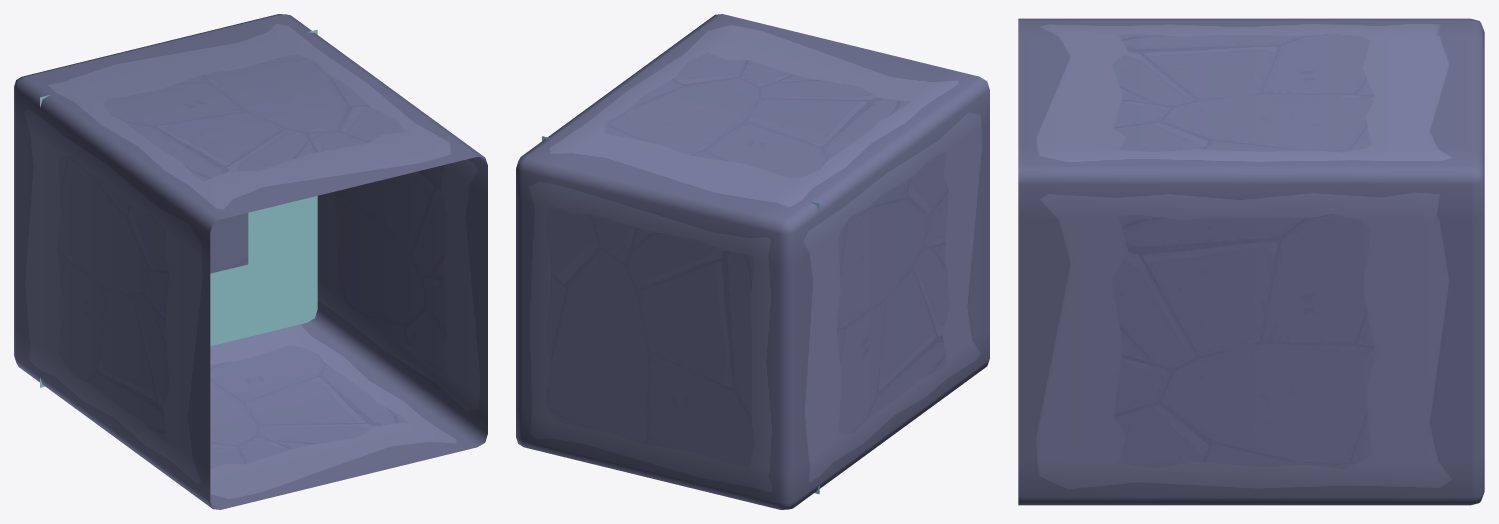
The model's file is SinkBox_4x4.fbx.
3 views of the same model, side by side, from view 1: azimuth 30°, elevation 25°; view 2: azimuth 150°, elevation 25°; view 3: azimuth 270°, elevation 25° (orthographic). The views are drawn at different scales.
Parts seen in each view (by area): view 1: Sinking_Platform_4_4_1, WaterEdge_2_2; view 2: Sinking_Platform_4_4_1; view 3: Sinking_Platform_4_4_1.
Boxes of the visible parts, x1=… form: Sinking_Platform_4_4_1: x1=14, y1=14, x2=487, y2=509; WaterEdge_2_2: x1=40, y1=29, x2=317, y2=387; Sinking_Platform_4_4_1: x1=516, y1=14, x2=989, y2=509; Sinking_Platform_4_4_1: x1=1018, y1=18, x2=1484, y2=505.
Size of the model in its own units: 400 by 400 by 500.
